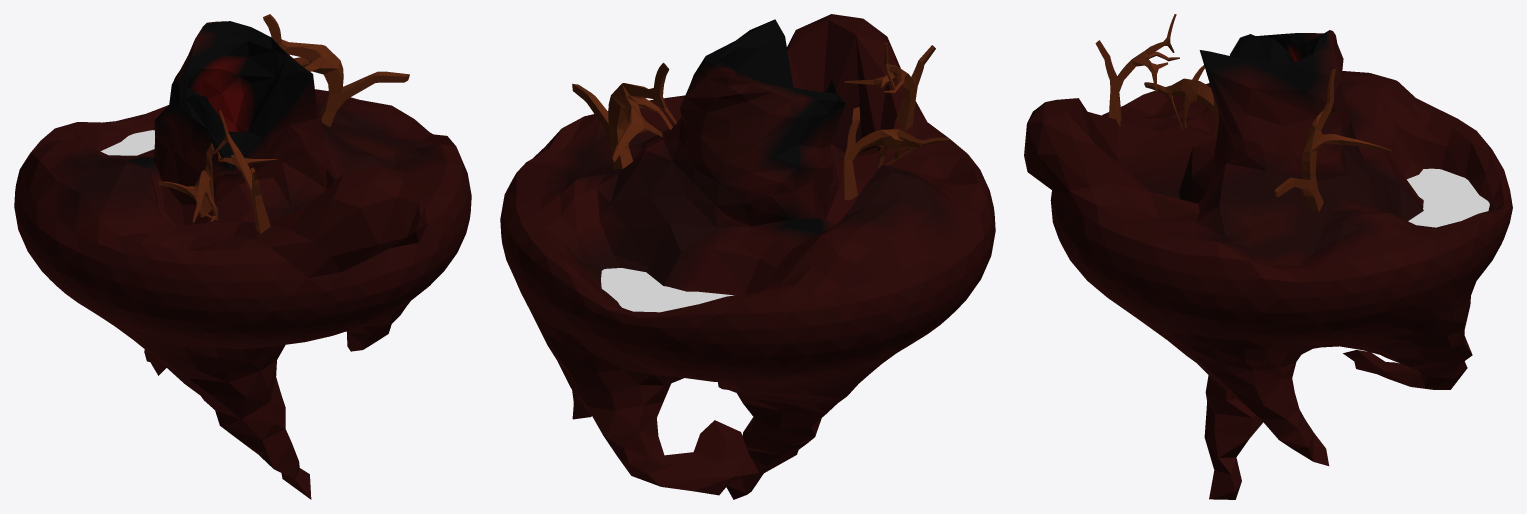
The model's file is LowPolyVolcano.fbx.
3 renders of one model, left to right at view 1: azimuth 30°, elevation 25°; view 2: azimuth 150°, elevation 25°; view 3: azimuth 270°, elevation 25°, orthographic. The views are drawn at different scales.
Parts seen in each view (by area): view 1: Icosphere.001, Plane.003, Plane.001, Plane.002, Plane; view 2: Icosphere.001, Plane.003, Plane, Plane.002, Plane.001; view 3: Icosphere.001, Plane, Plane.003, Plane.001, Plane.002.
Part boxes in pixels (box(x1,y1,x2,y2)): Icosphere.001: box(14, 21, 471, 499); Plane.003: box(263, 14, 409, 126); Plane.001: box(213, 110, 277, 233); Plane.002: box(158, 143, 218, 223); Plane: box(100, 130, 154, 155); Icosphere.001: box(500, 14, 995, 499); Plane.003: box(572, 62, 676, 169); Plane: box(601, 268, 734, 312); Plane.002: box(842, 107, 949, 200); Plane.001: box(844, 42, 935, 130); Icosphere.001: box(1024, 30, 1512, 499); Plane: box(1407, 168, 1489, 227); Plane.003: box(1274, 69, 1391, 212); Plane.001: box(1095, 14, 1179, 126); Plane.002: box(1144, 65, 1218, 138).
Size of the model in its own units: 2549 by 2727 by 2695.
